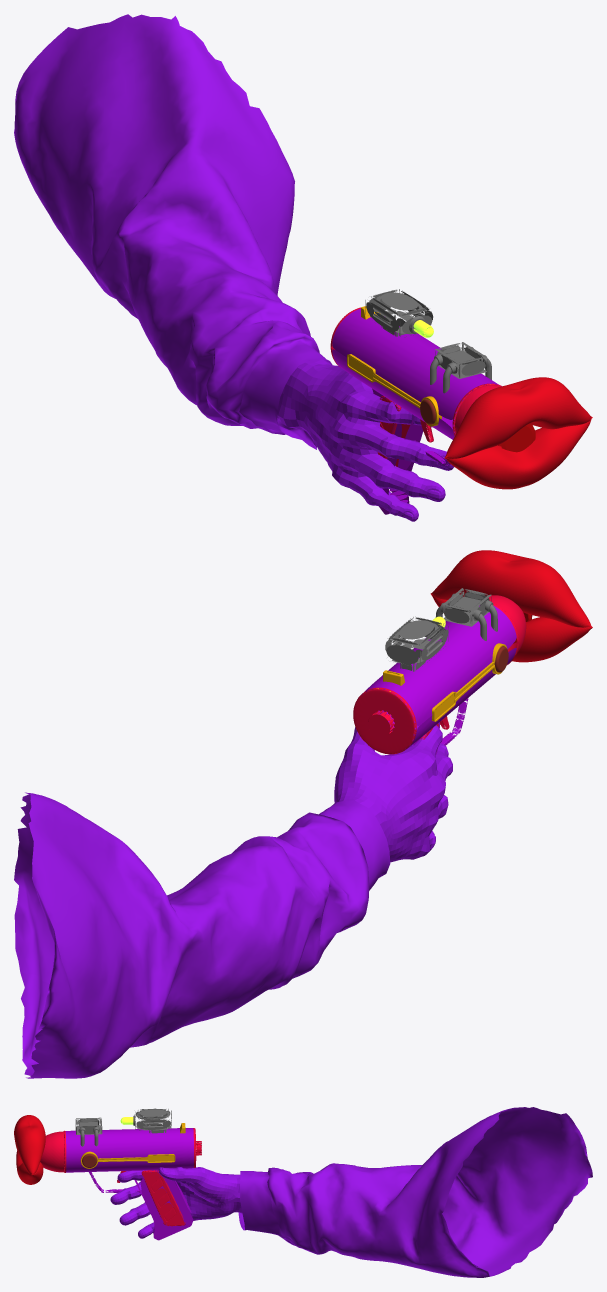
File: gunpoint(lovetech).fbx
The picture shows the model from 3 angles, top to bottom: view 1: azimuth 30°, elevation 25°; view 2: azimuth 150°, elevation 25°; view 3: azimuth 270°, elevation 25°; orthographic projection. The views are drawn at different scales.
Visible parts, largest first — view 1: HOOD_UP.002, Sphere.001; view 2: HOOD_UP.002, Sphere.001; view 3: HOOD_UP.002, Sphere.001.
Boxes of the visible parts, left/top/right/bottom form: HOOD_UP.002: left=14, top=14, right=453, bottom=521; Sphere.001: left=330, top=289, right=592, bottom=514; HOOD_UP.002: left=14, top=723, right=452, bottom=1078; Sphere.001: left=353, top=550, right=592, bottom=754; HOOD_UP.002: left=110, top=1107, right=592, bottom=1277; Sphere.001: left=14, top=1108, right=201, bottom=1240.
Bounding box in the file's own units: 143 × 183 × 577.
